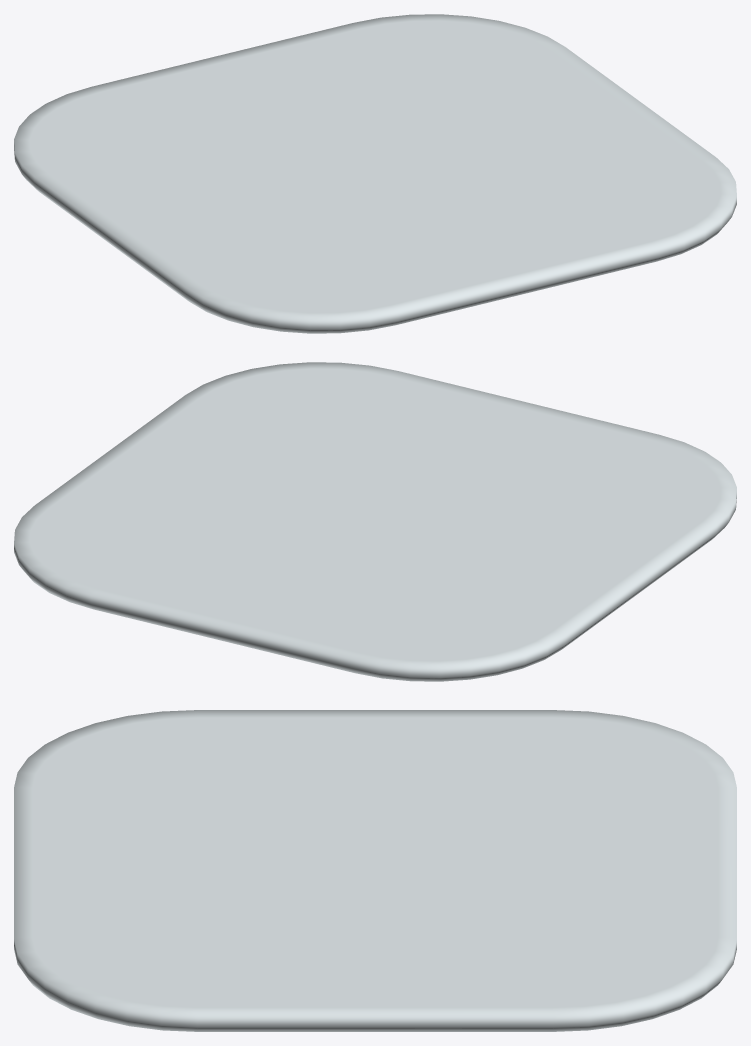
File: EmptySpace.fbx
3 views of the same model, one above another, from view 1: azimuth 30°, elevation 25°; view 2: azimuth 150°, elevation 25°; view 3: azimuth 270°, elevation 25° (orthographic). The views are drawn at different scales.
Parts seen in each view (by area): view 1: EmptyBase; view 2: EmptyBase; view 3: EmptyBase.
Boxes of the visible parts, x1,y1,x2,y2 form: EmptyBase: [14, 14, 736, 333]; EmptyBase: [14, 362, 736, 681]; EmptyBase: [14, 710, 736, 1031].
Size of the model in its own units: 76.97 by 2.2 by 76.97.
